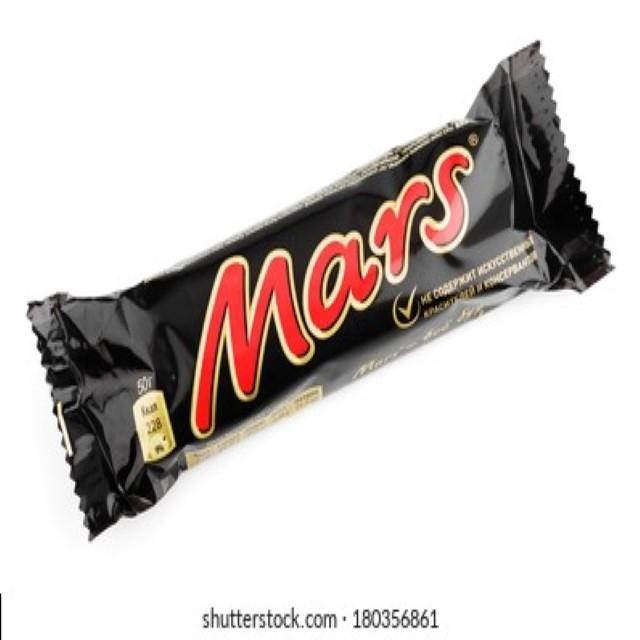mars_chocolate: (38, 76, 555, 552)
